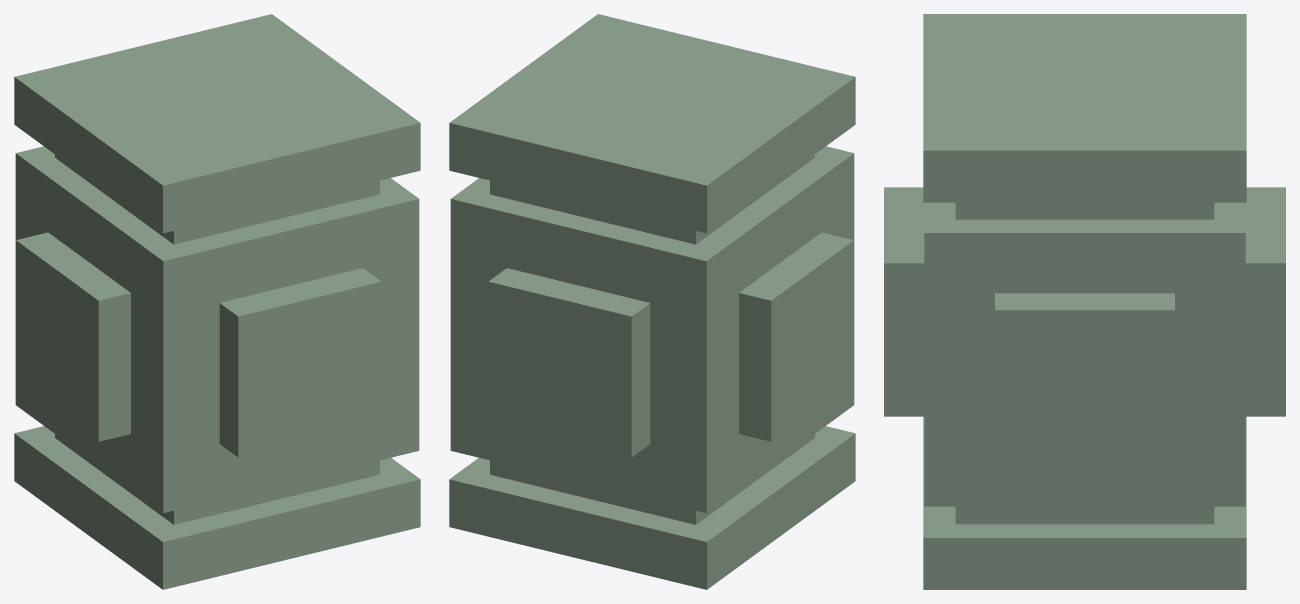
The model's file is pillar.glb.
3 renders of one model, left to right at view 1: azimuth 30°, elevation 25°; view 2: azimuth 150°, elevation 25°; view 3: azimuth 270°, elevation 25°, orthographic. The views are drawn at different scales.
Visible parts, largest first — view 1: Cube.004; view 2: Cube.004; view 3: Cube.004.
Part boxes in pixels (x1=…): Cube.004: x1=14, y1=14, x2=420, y2=589; Cube.004: x1=449, y1=14, x2=855, y2=589; Cube.004: x1=884, y1=14, x2=1285, y2=589.
Size of the model in its own units: 1.24 by 1.5 by 1.24.
